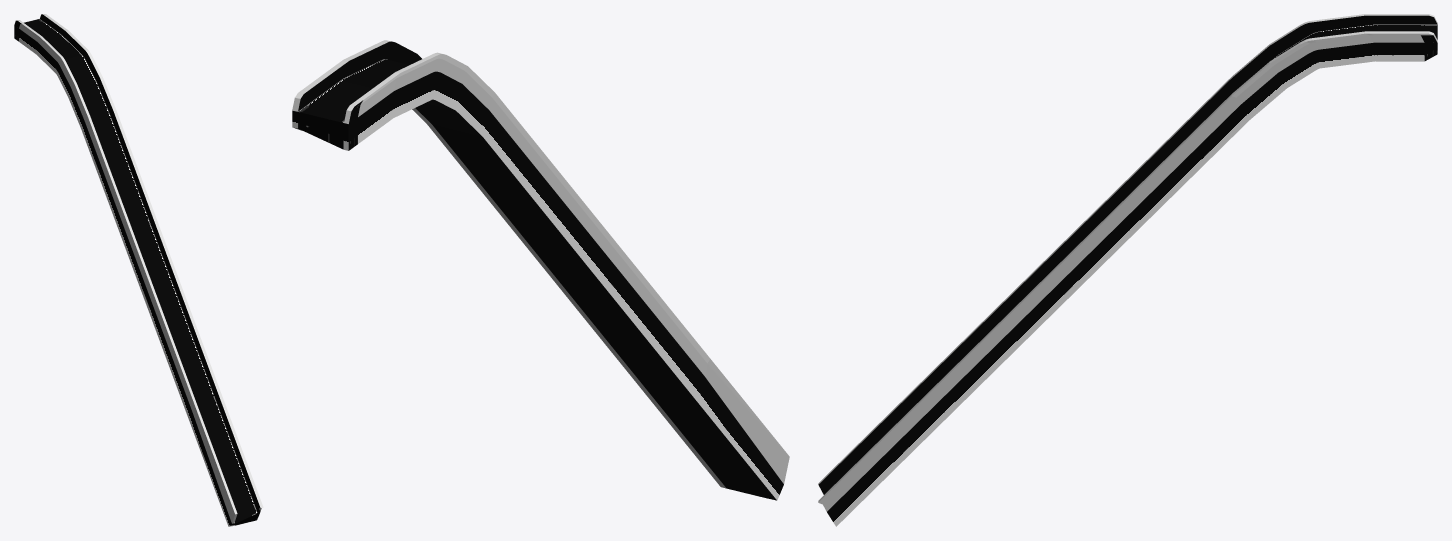
File: scifi_cube_slope_long.dae
The picture shows the model from 3 angles, left to right: view 1: azimuth 30°, elevation 25°; view 2: azimuth 150°, elevation 25°; view 3: azimuth 270°, elevation 25°; orthographic projection. The views are drawn at different scales.
Parts seen in each view (by area): view 1: Cube; view 2: Cube; view 3: Cube.
Part boxes in pixels (left/top/right/bottom): Cube: left=14, top=14, right=263, bottom=526; Cube: left=292, top=40, right=789, bottom=500; Cube: left=818, top=14, right=1437, bottom=526.
Size of the model in its own units: 7.16 by 95.89 by 84.3.
3 materials, 1 textured.
